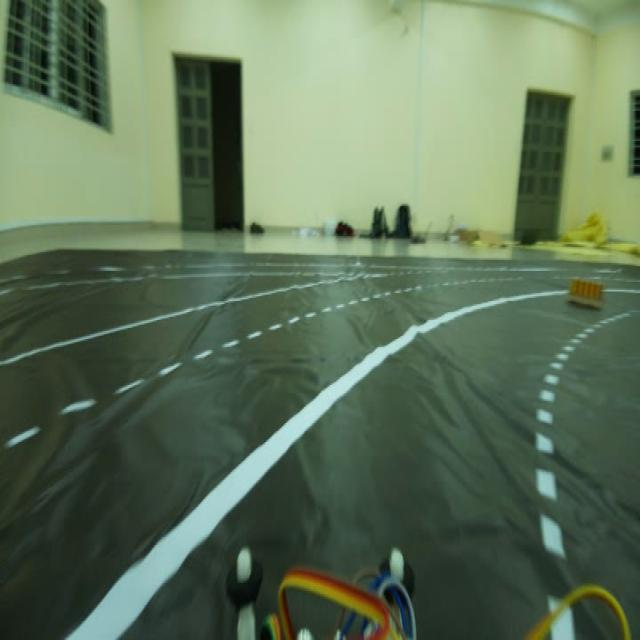roadblock: (564, 266, 606, 312)
